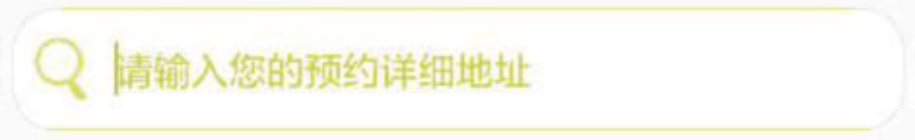EditText: (1, 1, 914, 139)
